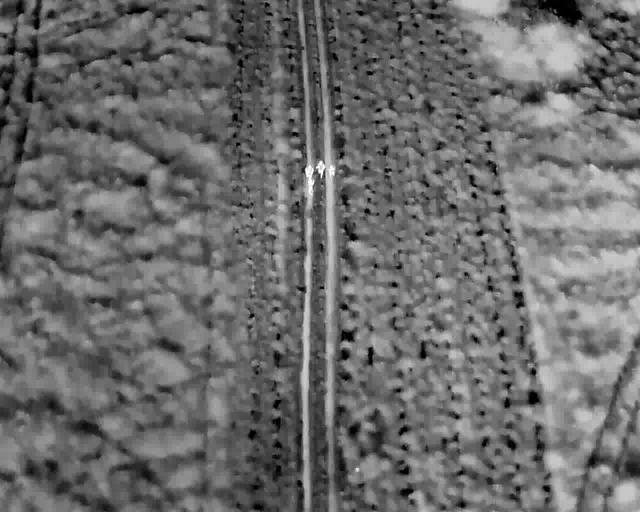person: (304, 177, 317, 196), (327, 162, 340, 181), (314, 160, 327, 179), (303, 162, 316, 181)
